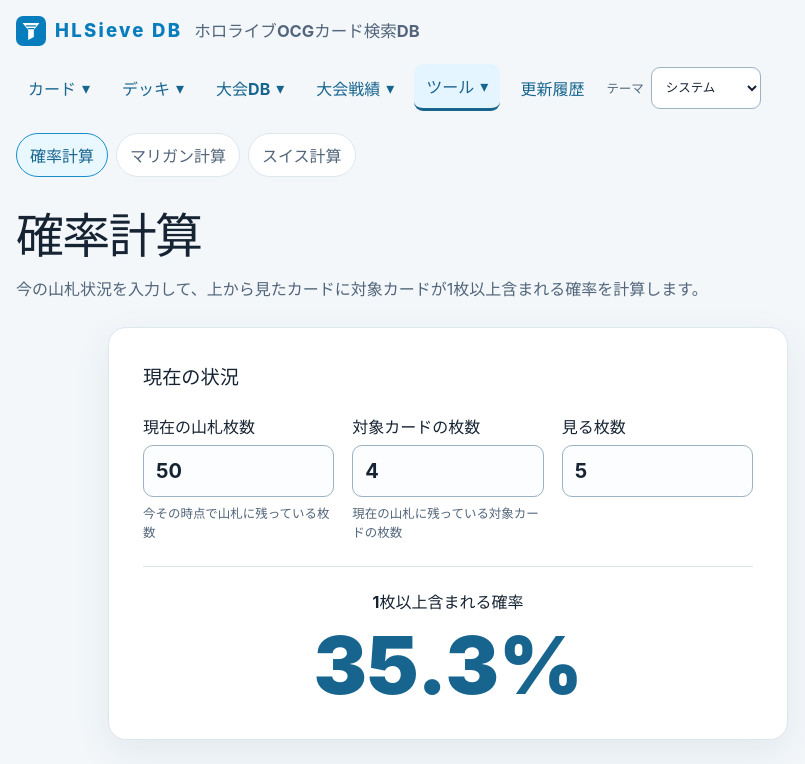
Test: ProbabilityPage › hides the result and shows natural validation errors
Replace the text in the number field labelled "現在の山札枚数 今その時点で山札に残っている枚数" with "3" at (239, 471), box [143,445,334,497]
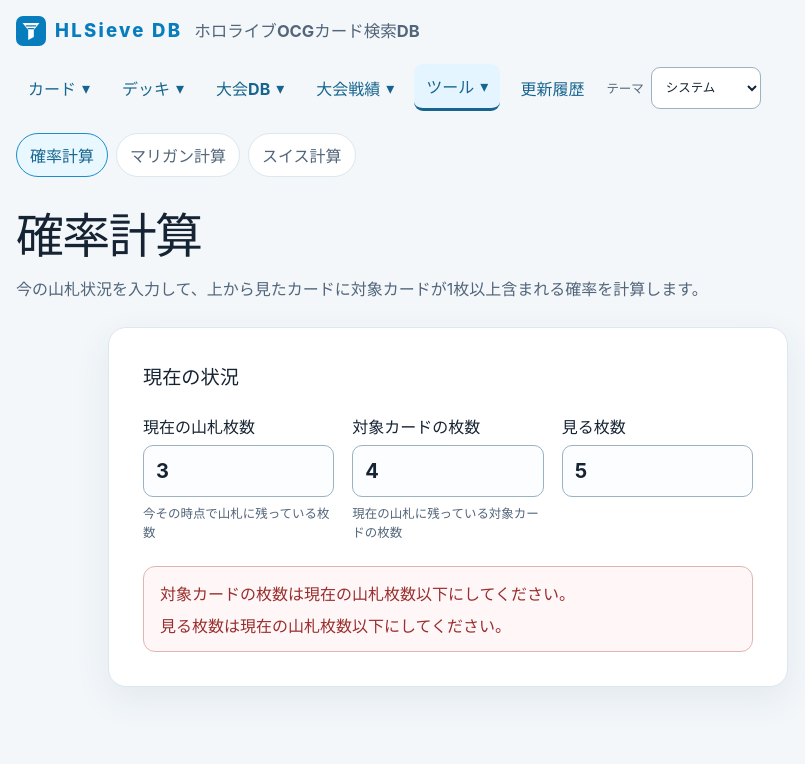
Expected: the text "35.3%" is gone
Expected: the message shows "対象カードの枚数は現在の山札枚数以下にしてください。", [160,584,575,604]
Expected: the message shows "見る枚数は現在の山札枚数以下にしてください。", [160,616,511,636]
